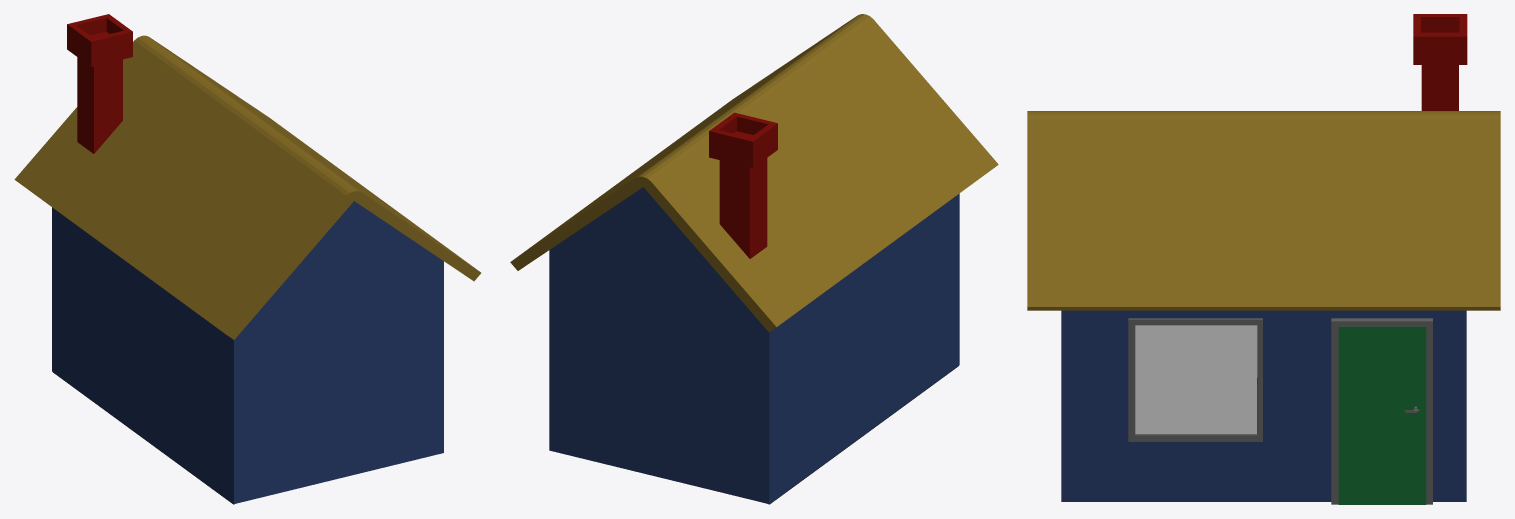
File: House2.fbx
3 views of the same model, side by side, from view 1: azimuth 30°, elevation 25°; view 2: azimuth 150°, elevation 25°; view 3: azimuth 270°, elevation 25° (orthographic). The views are drawn at different scales.
Parts seen in each view (by area): view 1: House, Roof, Chimney; view 2: House, Roof, Chimney; view 3: Roof, House, Droor, Window, Chimney.
Part boxes in pixels (x1,y1,x2,y2): House: [52, 201, 443, 504]; Roof: [14, 35, 480, 339]; Chimney: [67, 14, 132, 153]; House: [549, 187, 959, 504]; Roof: [510, 14, 998, 331]; Chimney: [709, 112, 777, 258]; Roof: [1027, 111, 1500, 310]; House: [1061, 310, 1466, 504]; Droor: [1338, 326, 1426, 504]; Window: [1135, 325, 1257, 433]; Chimney: [1413, 14, 1467, 110].
Bounding box in the file's own units: 485 × 625 × 700.
